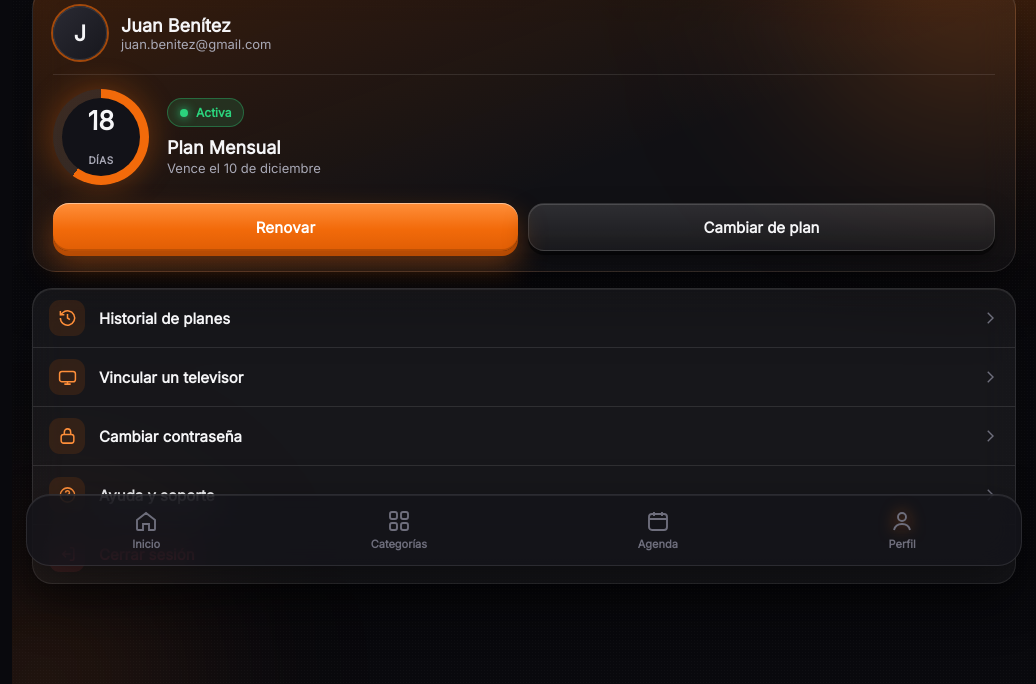
it: renovar lleva a planes
Click the button "Renovar" at x=286, y=227, box [53, 203, 518, 251]
(page scrolled)
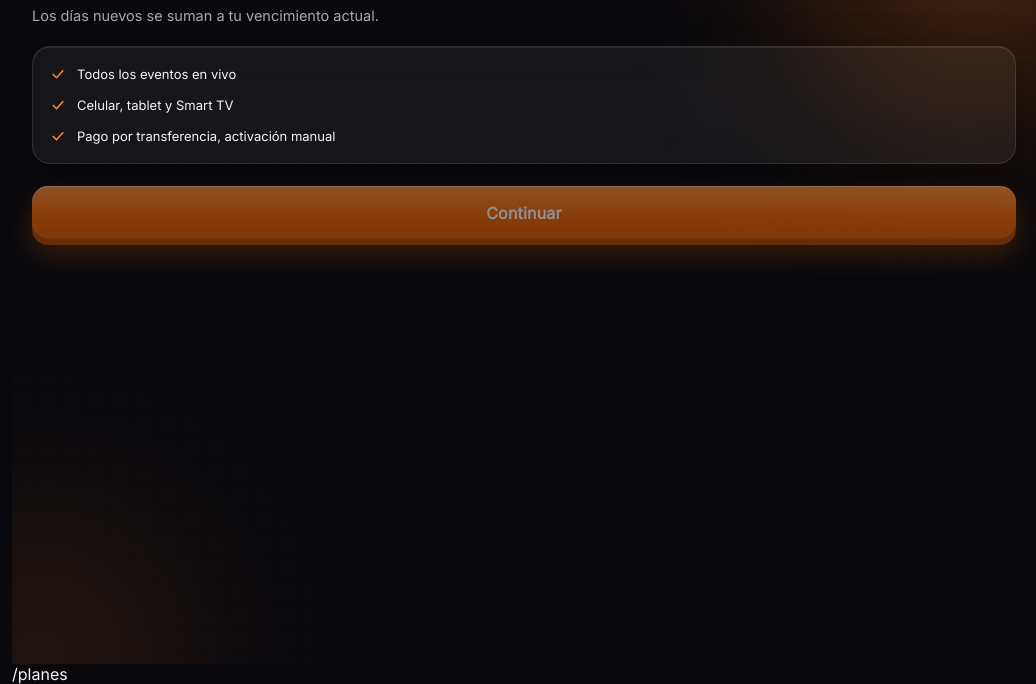
Expected: the text with test id "loc" reads "/planes", [12, 664, 68, 683]
